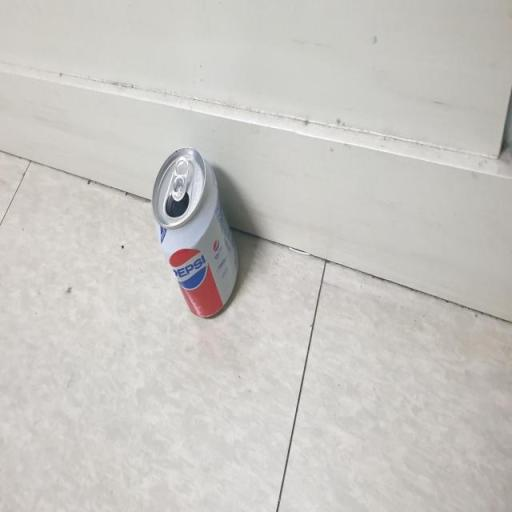metal: (140, 132, 247, 338)
